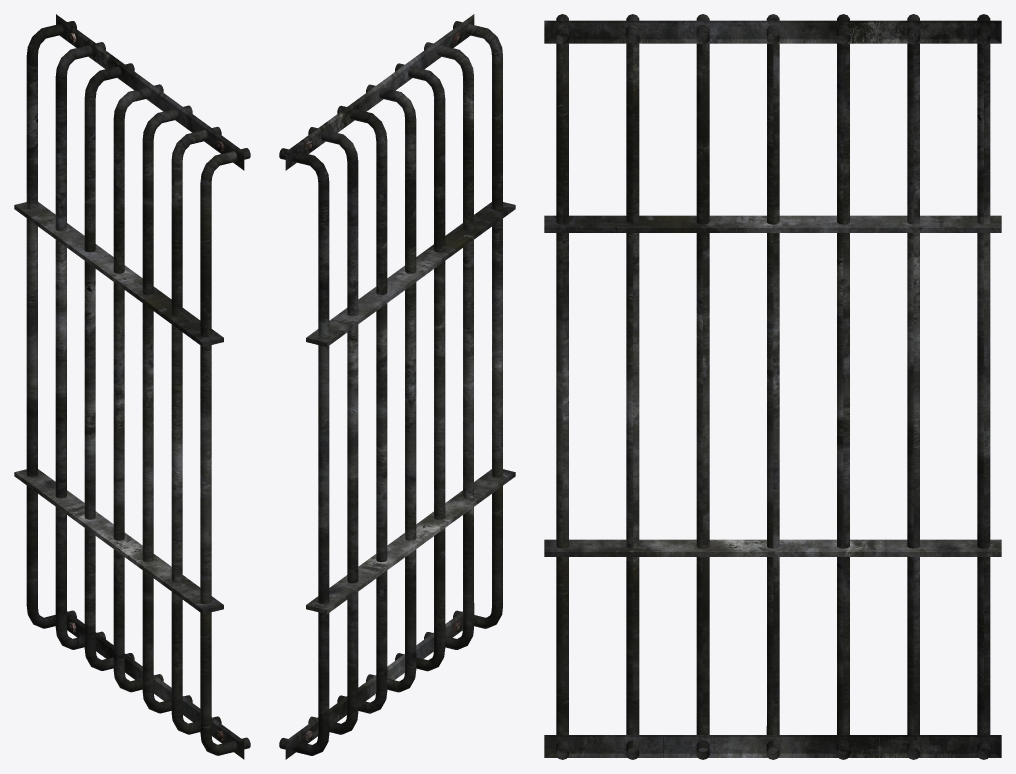
Rendered from Metal_Bar_Big.fbx.
3 views of the same model, side by side, from view 1: azimuth 30°, elevation 25°; view 2: azimuth 150°, elevation 25°; view 3: azimuth 270°, elevation 25° (orthographic). The views are drawn at different scales.
Visible parts, largest first — view 1: Metal_Bar_Big; view 2: Metal_Bar_Big; view 3: Metal_Bar_Big.
Boxes of the visible parts, x1=… form: Metal_Bar_Big: x1=14, y1=14, x2=250, y2=759; Metal_Bar_Big: x1=279, y1=14, x2=515, y2=759; Metal_Bar_Big: x1=544, y1=14, x2=1001, y2=759.
Bounding box in the file's own units: 0.2076 × 2.3 × 1.29.
